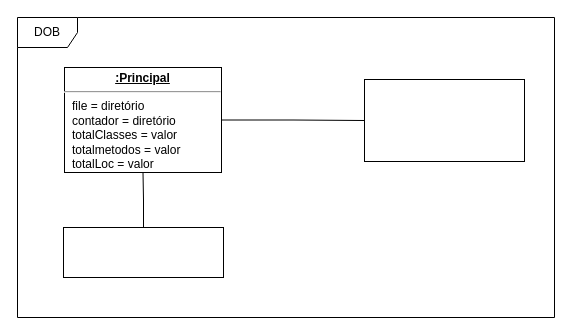
The diagram is 572 pixels wide and 335 high, and some of its shapes have lost their labels. Here are the shapes that lost their labels. From the top down, the centre of each, then its label:
At (444,120): "contador:Contador linhasContadas = 0 classesContadas = 0 metodosContados = 0".
At (143,252): "file:FileManager file = diretório".
